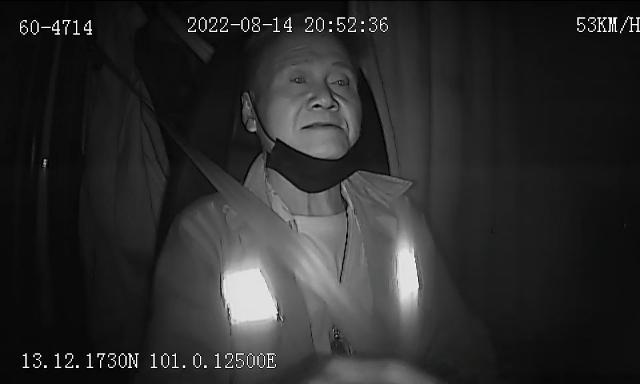SafeDriving: (324, 66, 356, 94), (282, 66, 314, 92)
Seatbelt: (170, 129, 376, 359)
